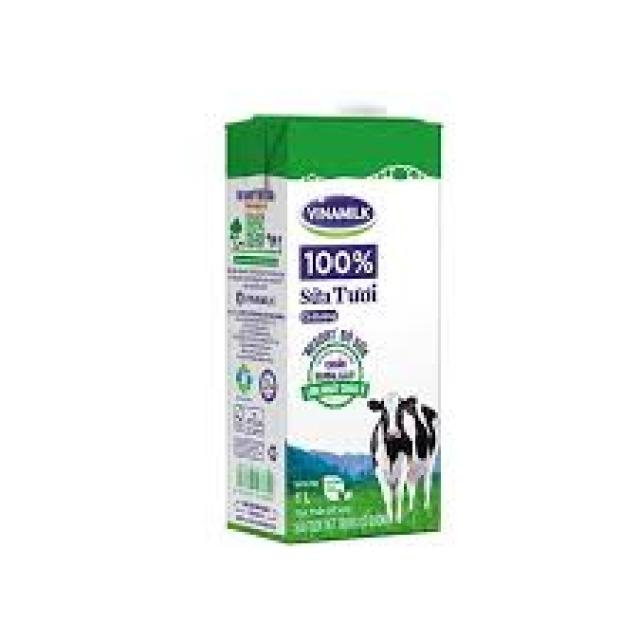non_white_jug: (205, 81, 452, 559)
